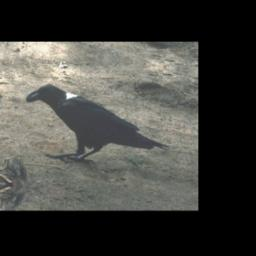Crow: (17, 79, 179, 178)
